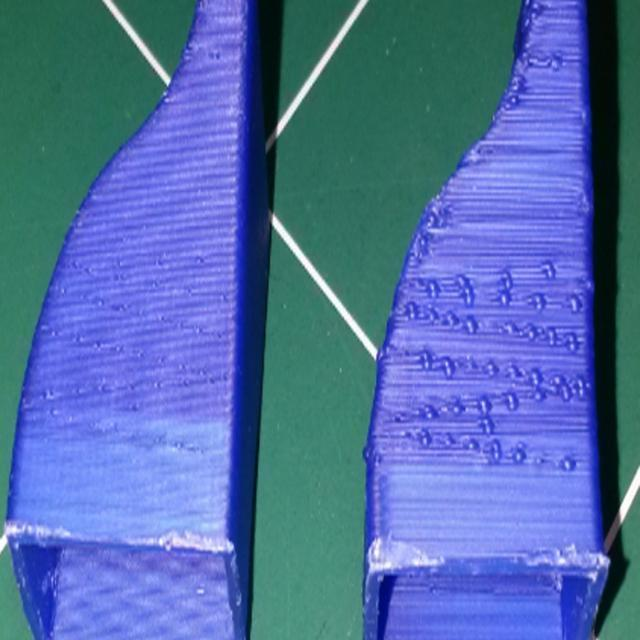zits: (512, 435, 530, 469), (491, 432, 507, 467), (501, 382, 518, 412), (419, 346, 435, 376), (437, 354, 454, 382), (564, 326, 578, 358), (480, 394, 496, 422), (560, 378, 574, 408), (567, 294, 586, 316), (484, 352, 500, 378), (451, 271, 469, 293), (524, 318, 538, 346), (534, 444, 548, 472), (424, 302, 439, 328), (444, 302, 459, 328), (543, 258, 559, 281), (440, 431, 456, 454), (529, 364, 544, 388), (575, 378, 590, 402), (533, 293, 547, 317), (550, 368, 564, 391), (500, 270, 516, 290), (406, 298, 422, 318), (502, 320, 518, 340), (464, 434, 480, 453), (419, 432, 435, 450), (451, 396, 465, 416), (428, 276, 440, 298), (464, 313, 478, 331), (563, 457, 575, 478), (546, 324, 558, 344), (498, 290, 510, 308), (482, 412, 494, 430), (454, 396, 464, 416)
